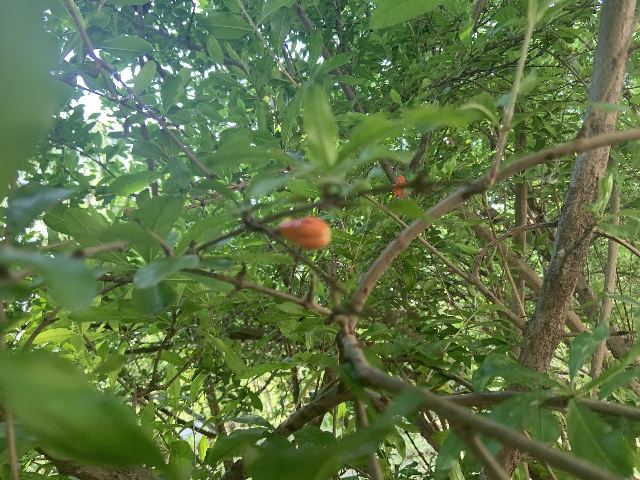bud: (276, 216, 331, 249)
flower: (391, 175, 411, 198)
